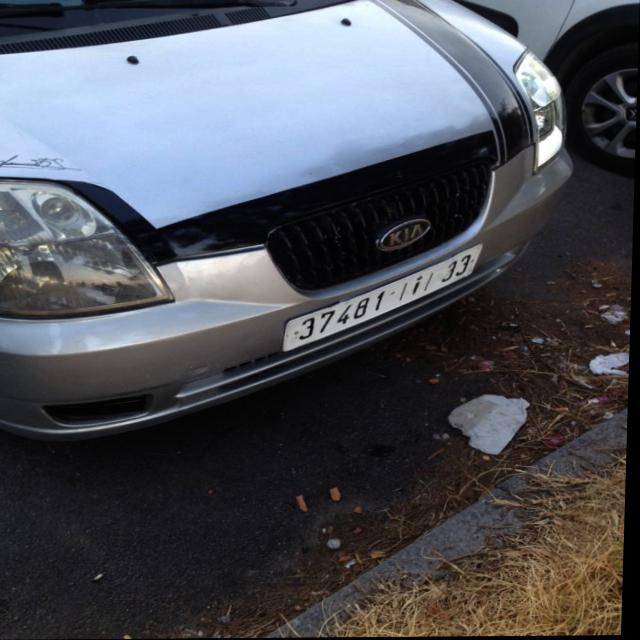License-Plate: (285, 245, 484, 351)
